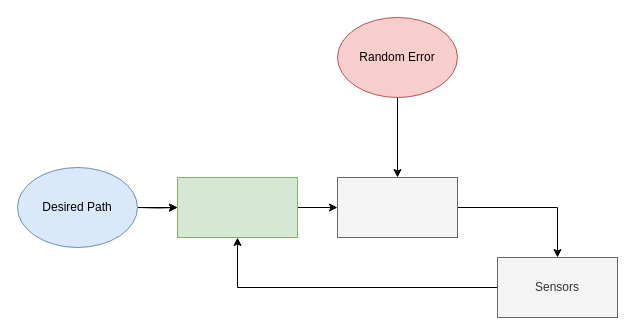
Image size: 635x335. Some labels were removed from this diagram. The shapes that lost their labels are listed below. From the top down, each one's box as (x1, y1, x2, y2) in pixels, then its label:
(176, 176, 298, 238): Controller
(336, 176, 458, 238): Printer
